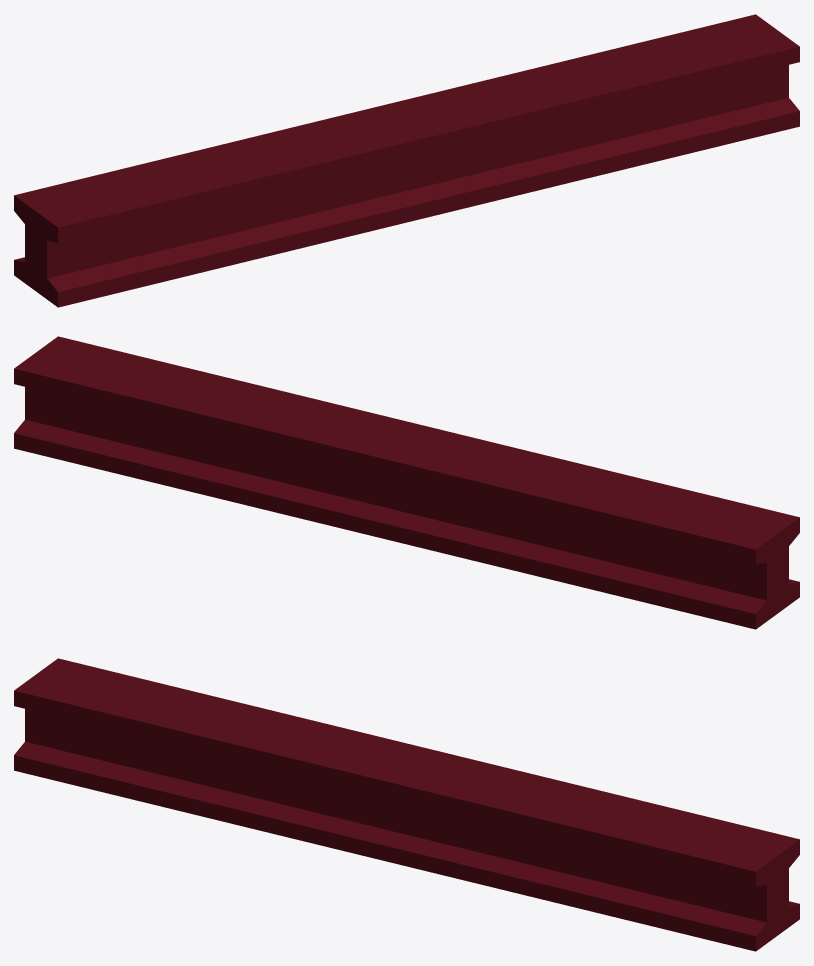
Rendered from SimpleSteelBeam.fbx.
The picture shows the model from 3 angles, top to bottom: view 1: azimuth 30°, elevation 25°; view 2: azimuth 150°, elevation 25°; view 3: azimuth 330°, elevation 25°; orthographic projection.
Parts seen in each view (by area): view 1: SimpleSteelBeam; view 2: SimpleSteelBeam; view 3: SimpleSteelBeam.
Part boxes in pixels (x1,y1,x2,y2): SimpleSteelBeam: [14, 14, 799, 307]; SimpleSteelBeam: [14, 336, 799, 629]; SimpleSteelBeam: [14, 658, 799, 951].
Size of what is drawn, in the model's own units: 17.55 by 1.81 by 1.81.
